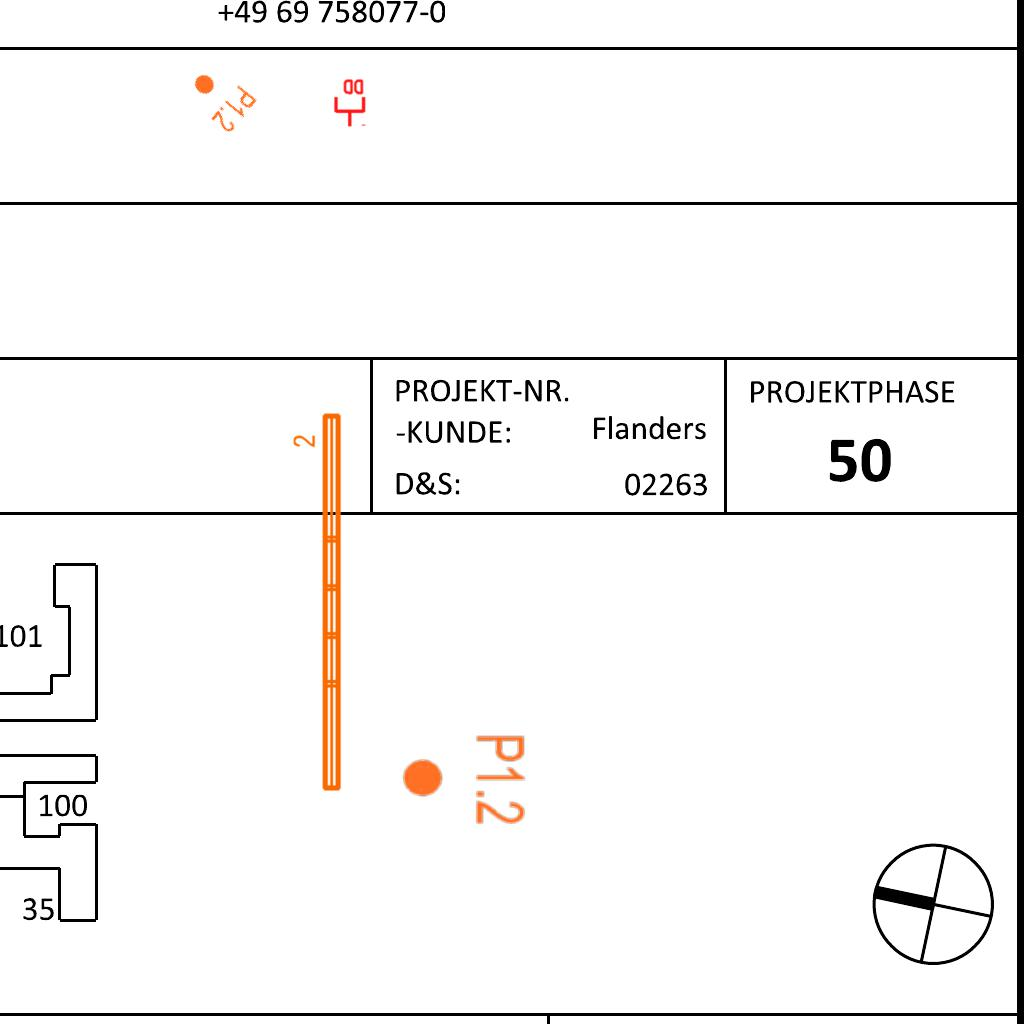Ambulanz_Pendelleuchte_LED: (291, 409, 347, 796)
Datenanschluss_zweifach: (332, 77, 366, 128)
Downlight_LED_Einbauleuchten_Flur: (400, 733, 528, 826), (180, 59, 260, 137)
